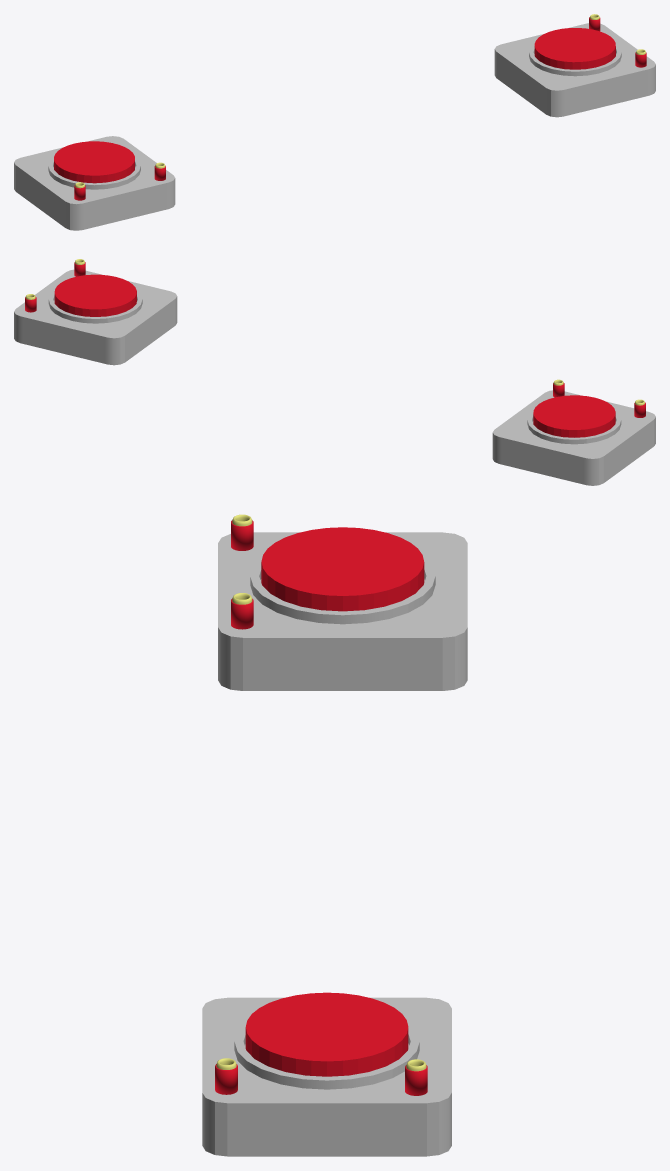
The model's file is buttons.glb.
3 renders of one model, top to bottom at view 1: azimuth 30°, elevation 25°; view 2: azimuth 150°, elevation 25°; view 3: azimuth 270°, elevation 25°, orthographic. The views are drawn at different scales.
Parts seen in each view (by area): view 1: Cube.089, Cube, Cylinder.003, Cylinder; view 2: Cube, Cube.089, Cylinder, Cylinder.003; view 3: Cube, Cube.089, Cylinder, Cylinder.003.
Boxes of the visible parts, bbox=[...] form: Cube.089: bbox=[494, 23, 655, 117]; Cube: bbox=[14, 136, 175, 230]; Cylinder.003: bbox=[534, 28, 615, 69]; Cylinder: bbox=[54, 141, 134, 183]; Cube: bbox=[492, 390, 655, 485]; Cube.089: bbox=[14, 269, 177, 365]; Cylinder: bbox=[533, 395, 615, 437]; Cylinder.003: bbox=[54, 274, 136, 316]; Cube: bbox=[218, 532, 467, 690]; Cube.089: bbox=[202, 997, 451, 1156]; Cylinder: bbox=[261, 527, 424, 611]; Cylinder.003: bbox=[245, 992, 408, 1076].
Size of the model in its own units: 8.18 by 0.5462 by 1.61.
